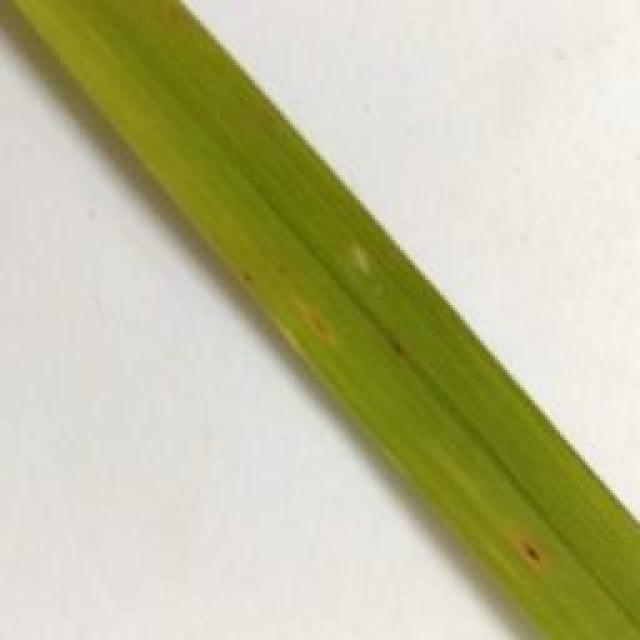Brown_Spot: (291, 286, 343, 342), (510, 522, 556, 576), (387, 331, 419, 376), (346, 237, 374, 280)
